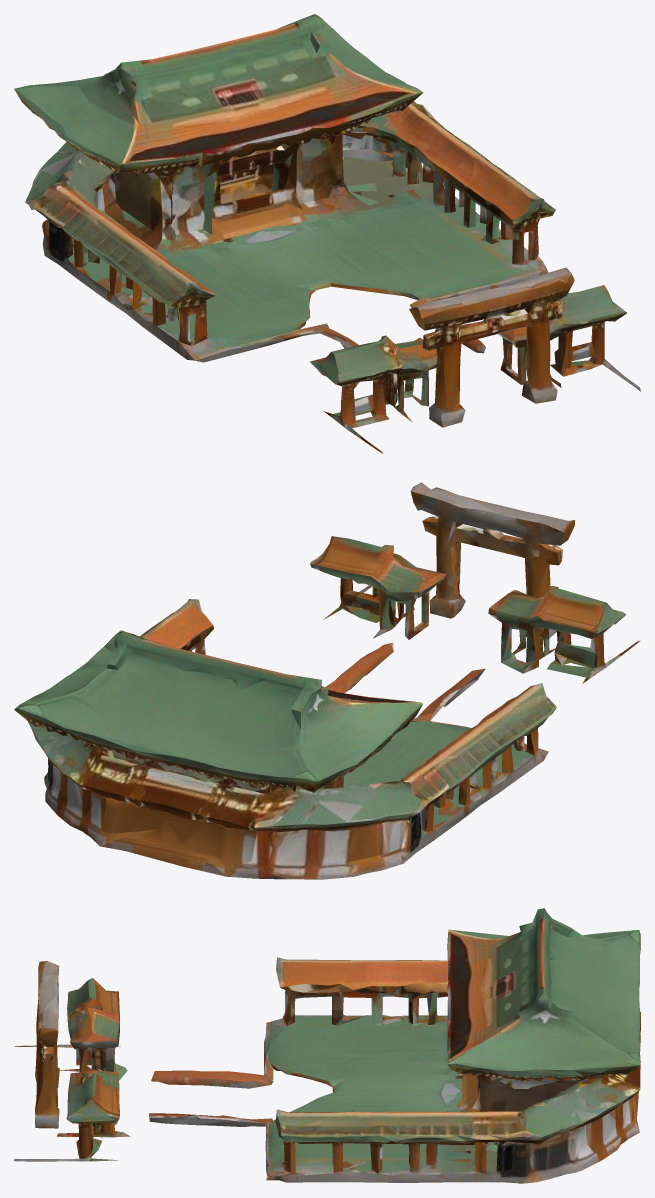
The model's file is meiji-shrine.glb.
The picture shows the model from 3 angles, top to bottom: view 1: azimuth 30°, elevation 25°; view 2: azimuth 150°, elevation 25°; view 3: azimuth 270°, elevation 25°; orthographic projection. The views are drawn at different scales.
Visible parts, largest first — view 1: logan-textured.obj; view 2: logan-textured.obj; view 3: logan-textured.obj.
Boxes of the visible parts, x1,y1,x2,y2 form: logan-textured.obj: [14, 14, 640, 453]; logan-textured.obj: [14, 482, 640, 879]; logan-textured.obj: [14, 908, 640, 1183].
Bounding box in the file's own units: 0.6555 × 0.2748 × 1.
1 material, 1 textured.
